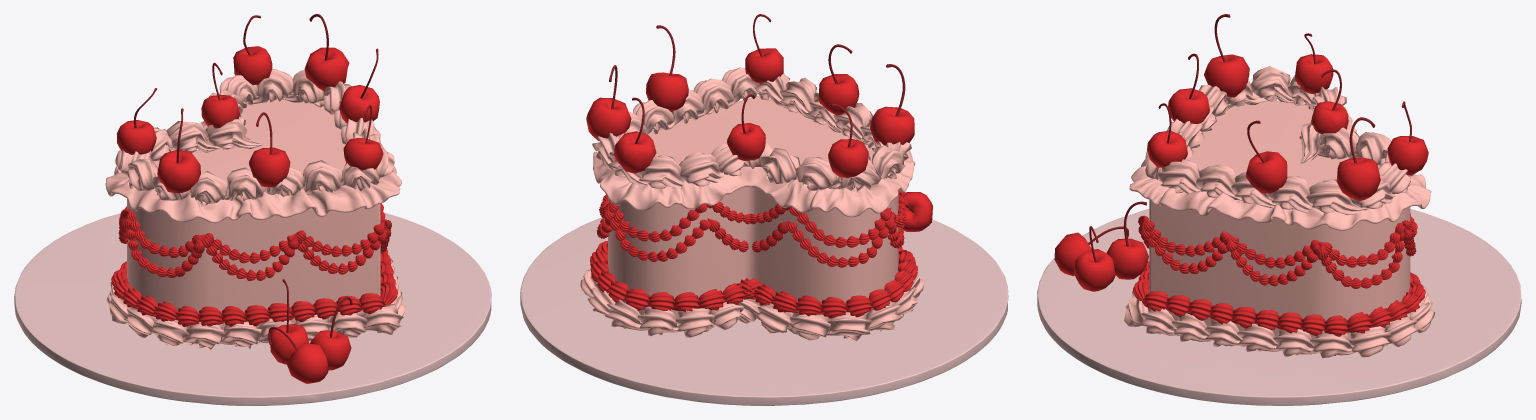
Rendered from cake.glb.
The picture shows the model from 3 angles, left to right: view 1: azimuth 30°, elevation 25°; view 2: azimuth 150°, elevation 25°; view 3: azimuth 270°, elevation 25°; orthographic projection. The views are drawn at different scales.
Parts seen in each view (by area): view 1: object 21, object 1, Cube.013_Material.008_0, Cube.015_Material.008_0, Cube.022_Material.008_0, Cube.011_Material.008_0, Cube.009_Material.008_0, Cube.004_Material.008_0, Cube.005_Material.008_0, Cube.024_Material.008_0, Cube.002_Material.008_0, Cube.020_Material.008_0; view 2: object 21, object 1, Cube.015_Material.008_0, Cube.013_Material.008_0, Cube.004_Material.008_0, Cube.009_Material.008_0, Cube.005_Material.008_0, Cube.011_Material.008_0, Cube.002_Material.008_0, Cube.022_Material.008_0; view 3: object 21, object 1, Cube.015_Material.008_0, Cube.013_Material.008_0, Cube.009_Material.008_0, Cube.020_Material.008_0, Cube.024_Material.008_0, Cube.004_Material.008_0, Cube.005_Material.008_0, Cube.011_Material.008_0, Cube.002_Material.008_0, Cube.022_Material.008_0.
Part boxes in pixels (bbox=[...]): object 21: bbox=[14, 15, 491, 405]; object 1: bbox=[105, 92, 403, 350]; Cube.013_Material.008_0: bbox=[157, 150, 200, 193]; Cube.015_Material.008_0: bbox=[304, 47, 349, 91]; Cube.022_Material.008_0: bbox=[287, 342, 328, 383]; Cube.011_Material.008_0: bbox=[249, 147, 290, 187]; Cube.009_Material.008_0: bbox=[339, 85, 379, 123]; Cube.004_Material.008_0: bbox=[233, 46, 272, 85]; Cube.005_Material.008_0: bbox=[116, 120, 156, 154]; Cube.024_Material.008_0: bbox=[270, 324, 308, 364]; Cube.002_Material.008_0: bbox=[201, 95, 239, 128]; Cube.020_Material.008_0: bbox=[310, 330, 351, 370]; object 21: bbox=[520, 48, 1008, 405]; object 1: bbox=[593, 73, 924, 341]; Cube.015_Material.008_0: bbox=[586, 97, 631, 141]; Cube.013_Material.008_0: bbox=[870, 106, 914, 145]; Cube.004_Material.008_0: bbox=[614, 131, 656, 173]; Cube.009_Material.008_0: bbox=[646, 72, 688, 111]; Cube.005_Material.008_0: bbox=[828, 139, 868, 177]; Cube.011_Material.008_0: bbox=[818, 74, 859, 115]; Cube.002_Material.008_0: bbox=[727, 123, 765, 161]; Cube.022_Material.008_0: bbox=[903, 192, 932, 231]; object 21: bbox=[1037, 33, 1521, 405]; object 1: bbox=[1124, 66, 1431, 339]; Cube.015_Material.008_0: bbox=[1336, 157, 1380, 200]; Cube.013_Material.008_0: bbox=[1204, 54, 1249, 97]; Cube.009_Material.008_0: bbox=[1246, 151, 1287, 193]; Cube.020_Material.008_0: bbox=[1073, 249, 1115, 291]; Cube.024_Material.008_0: bbox=[1106, 238, 1148, 279]; Cube.004_Material.008_0: bbox=[1387, 136, 1428, 175]; Cube.005_Material.008_0: bbox=[1295, 54, 1333, 93]; Cube.011_Material.008_0: bbox=[1168, 88, 1209, 123]; Cube.002_Material.008_0: bbox=[1311, 101, 1348, 134]; Cube.022_Material.008_0: bbox=[1054, 232, 1091, 275].
Size of the model in its own units: 85.88 by 47.4 by 85.91.
